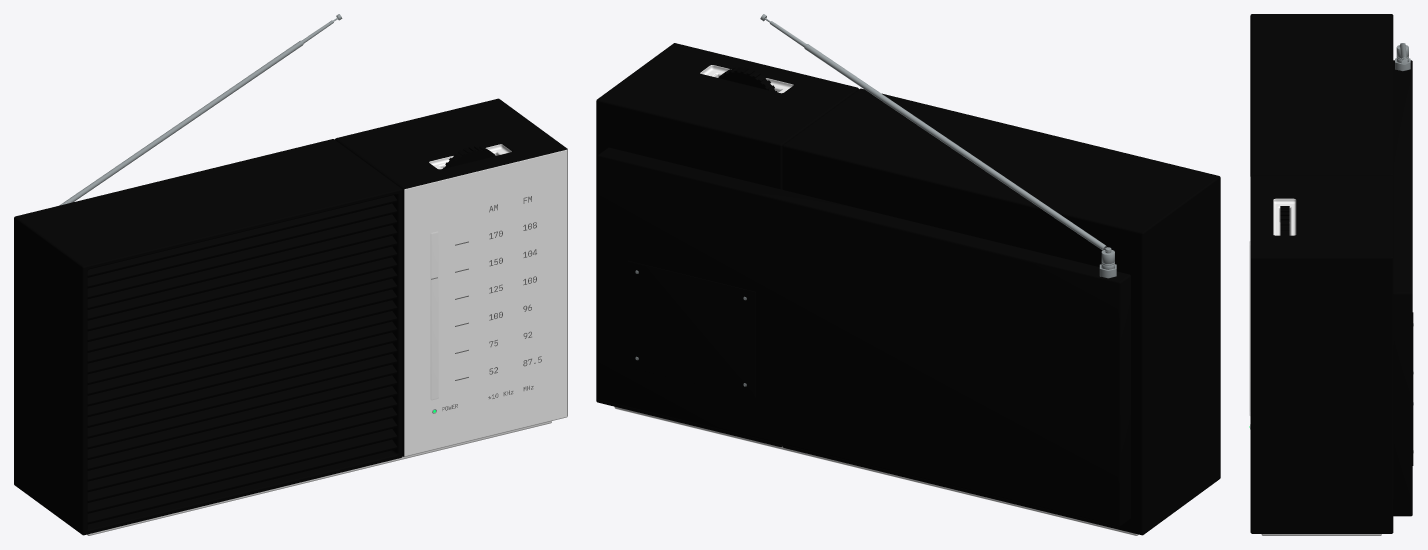
The model's file is mojang.glb.
3 renders of one model, left to right at view 1: azimuth 30°, elevation 25°; view 2: azimuth 150°, elevation 25°; view 3: azimuth 270°, elevation 25°, orthographic. The views are drawn at different scales.
Visible parts, largest first — view 1: speaker.002, RightBox.002, LeftBox.002, Cylinder.016, GlassFront.002, Cube.010, Text.001; view 2: Cube.009, LeftBox.002, RightBox.002, Cube.011, Cylinder.016, Cube.010, Cylinder.012; view 3: RightBox.002, LeftBox.002, Cube.009, Cube.011, Cylinder.012, Cylinder.014, Cube.010.
Boxes of the visible parts, x1,y1,x2,y2 form: speaker.002: (87, 195, 397, 524); RightBox.002: (335, 98, 567, 456); LeftBox.002: (14, 139, 402, 535); Cylinder.016: (59, 14, 342, 205); GlassFront.002: (431, 232, 438, 399); Cube.010: (87, 421, 551, 535); Text.001: (442, 196, 541, 410); Cube.009: (597, 147, 1130, 526); LeftBox.002: (782, 88, 1220, 535); RightBox.002: (596, 43, 858, 446); Cube.011: (627, 261, 755, 397); Cylinder.016: (760, 14, 1106, 251); Cube.010: (614, 406, 1138, 535); Cylinder.012: (718, 67, 777, 92); RightBox.002: (1250, 175, 1393, 533); LeftBox.002: (1250, 14, 1393, 176); Cube.009: (1393, 60, 1412, 516); Cube.011: (1412, 312, 1413, 465); Cylinder.012: (1280, 206, 1289, 235); Cylinder.014: (1395, 43, 1410, 71); Cube.010: (1261, 534, 1381, 535).
Bounding box in the file's own units: 1.97 × 1.53 × 0.561.
Materials: 9 (1 with a texture image).
